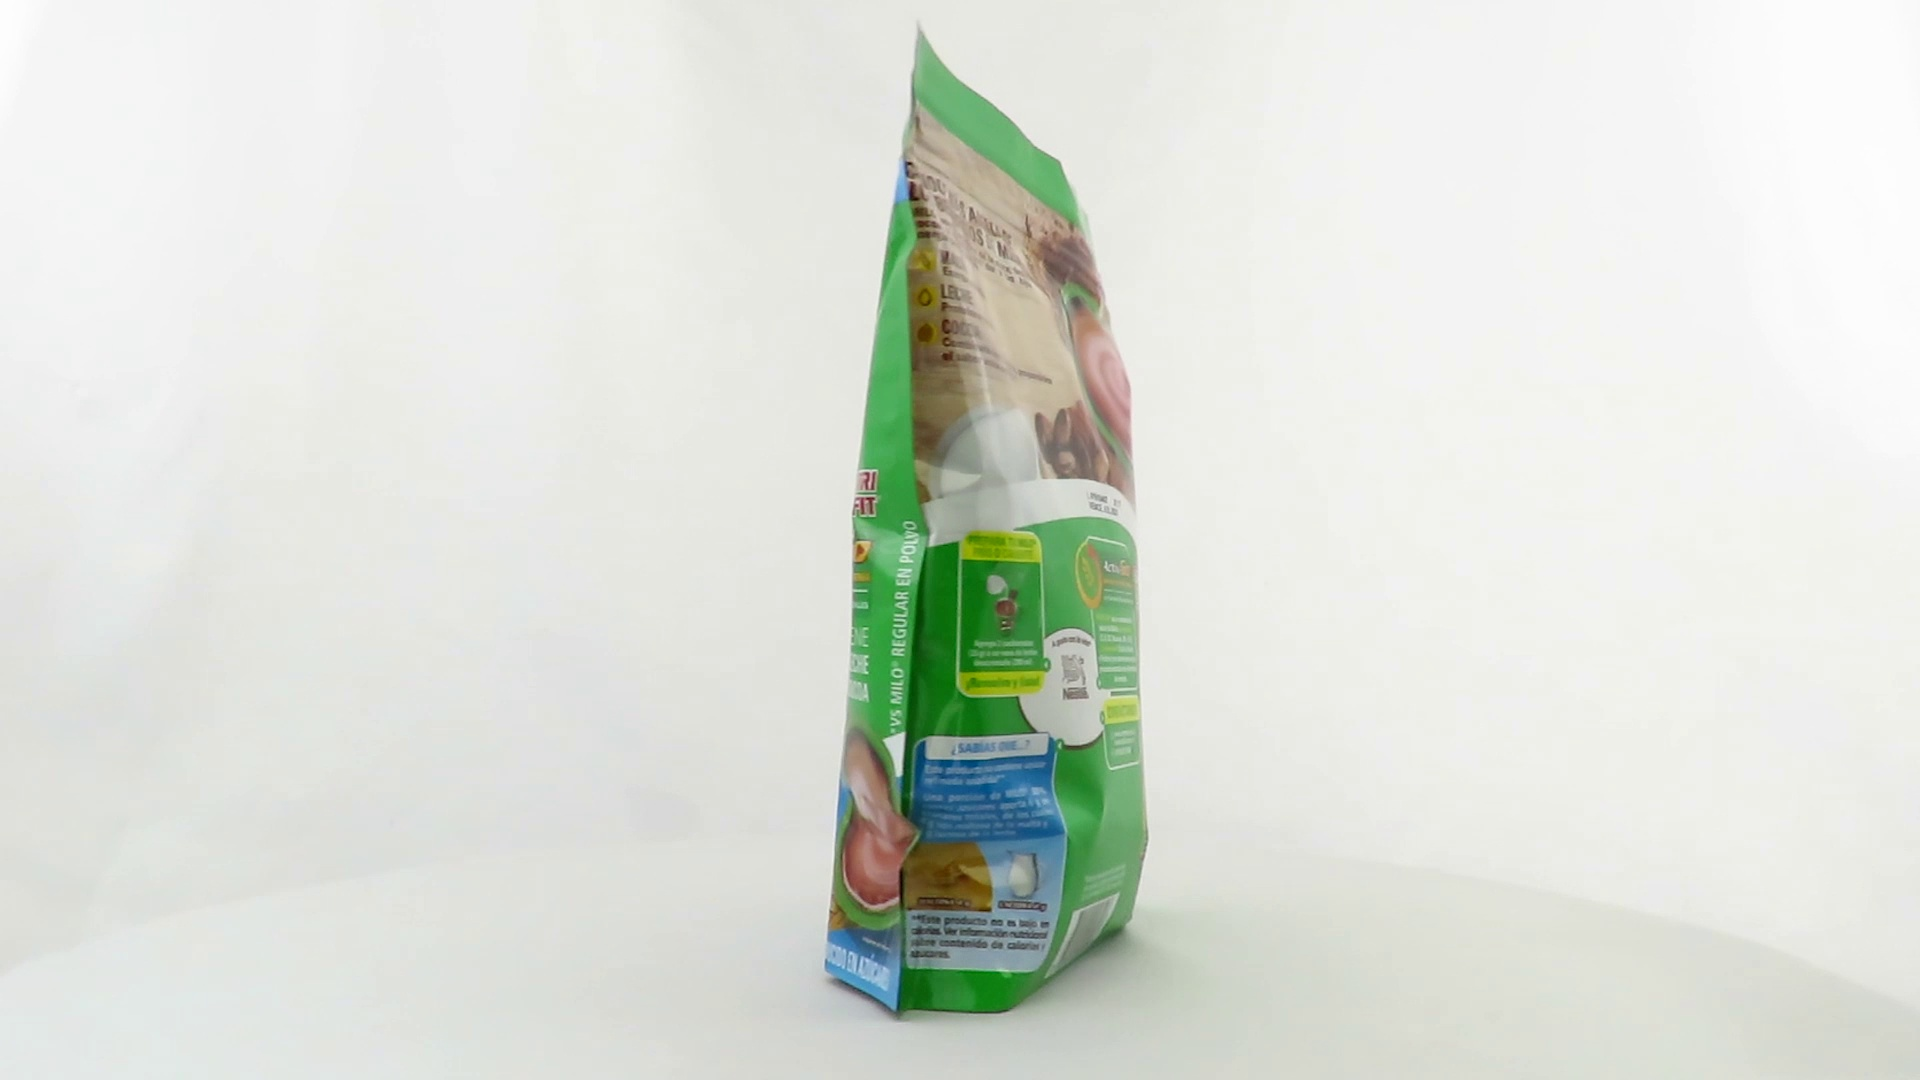COL0170205DYP50000: (819, 15, 1155, 1025)
